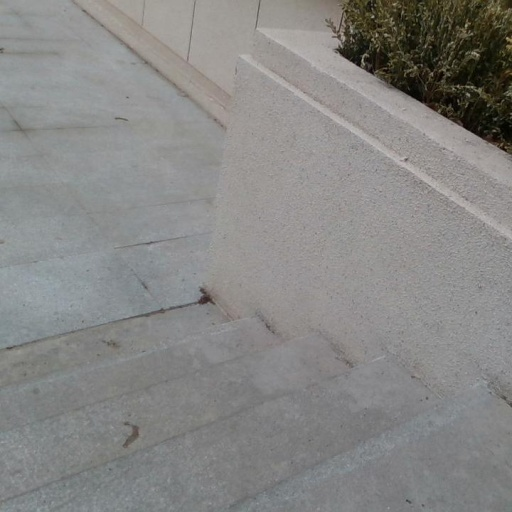Stairs: (0, 312, 512, 512)
